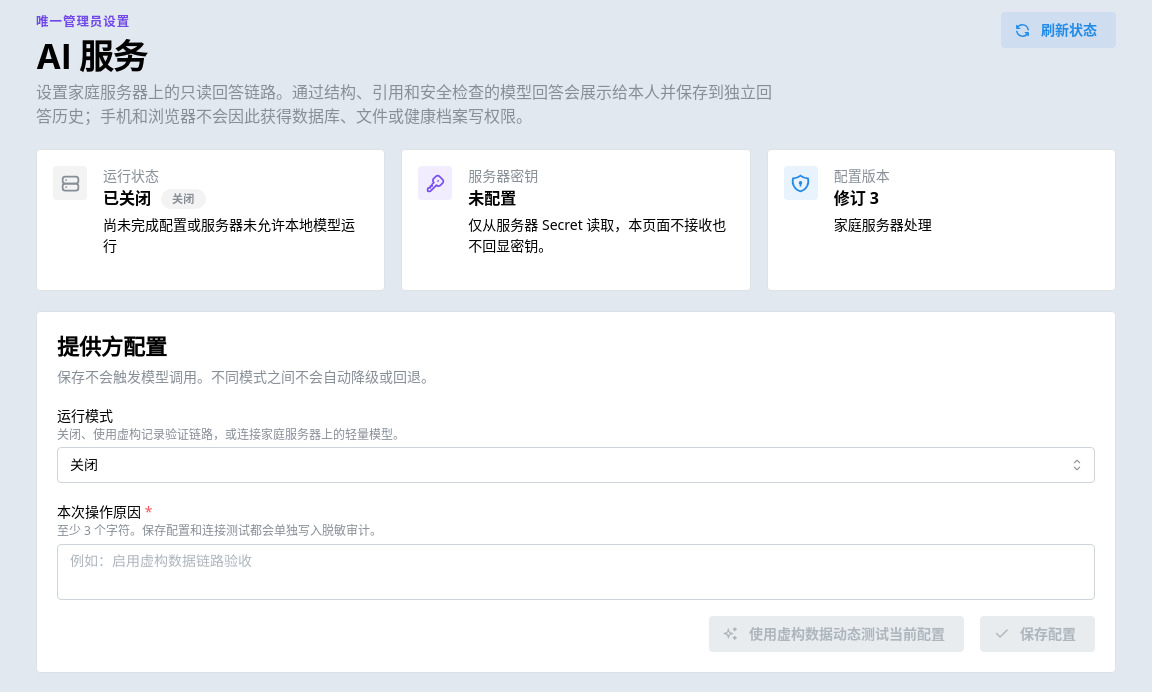
Test case: AdminHealthAiSettingsPage › fills only the local Ollama address without endorsing an unverified model
Expected: the heading "AI 服务" is shown, top-left (36, 36), bottom-right (147, 77)
Select "家庭服务器模型" in the dropdown labelled "运行模式": (576, 465) top-left (57, 447), bottom-right (1095, 483)
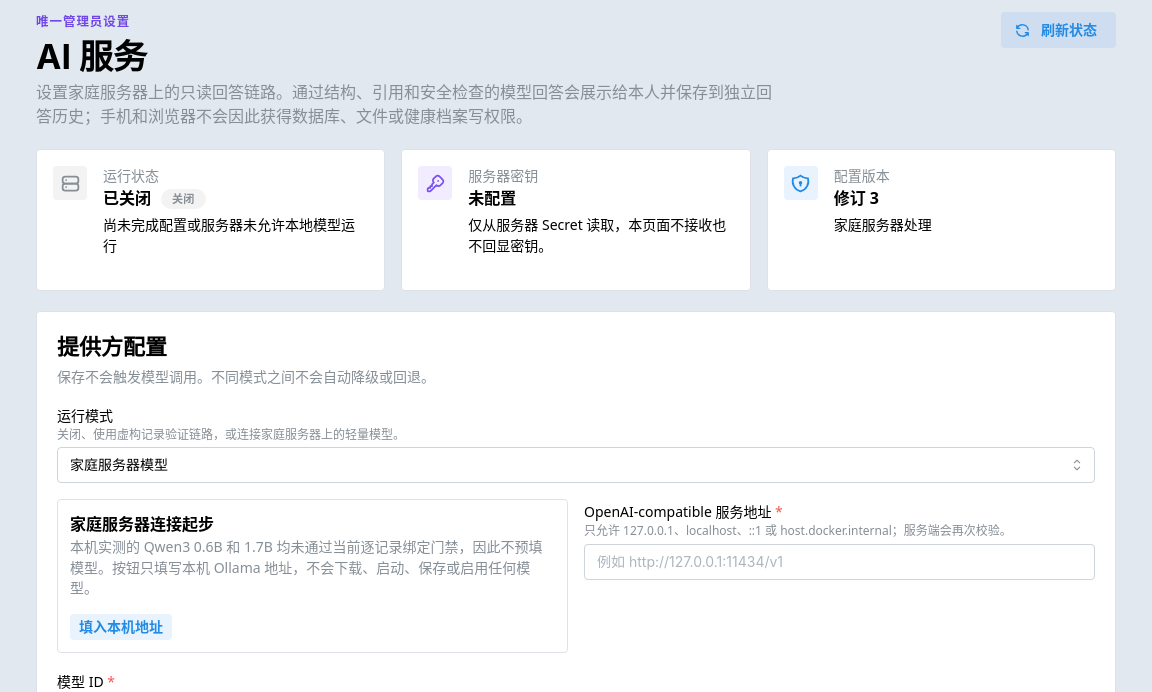
Click the button "填入本机地址": (121, 627) top-left (70, 614), bottom-right (172, 640)
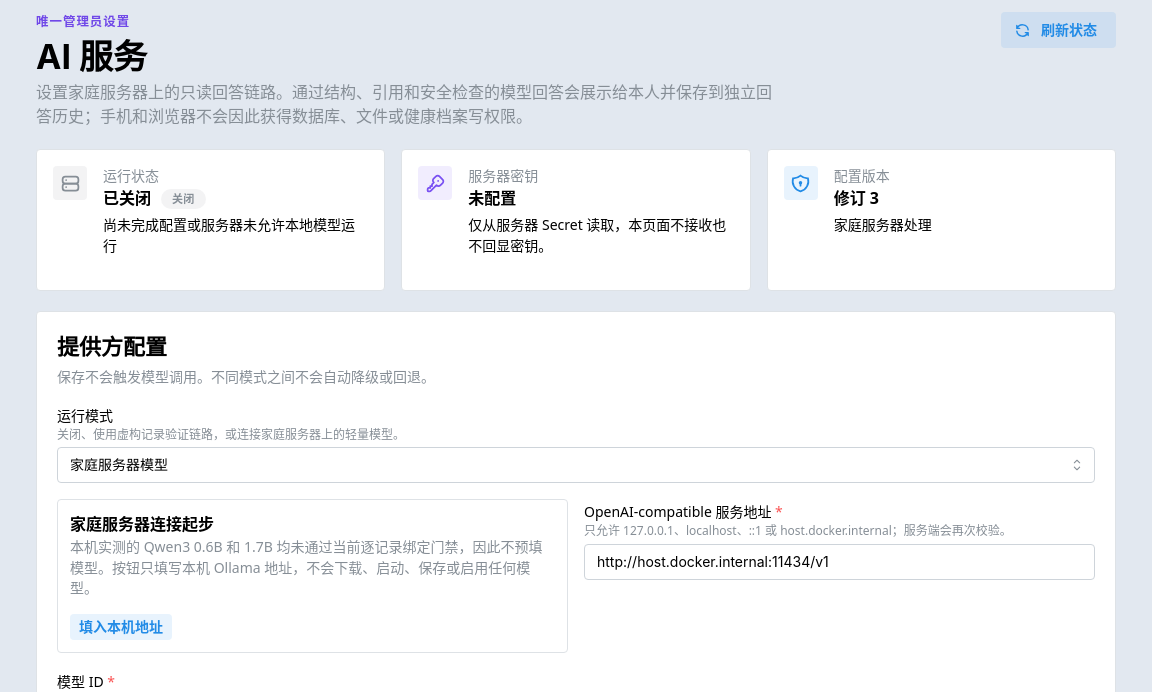
Result: the text "0.6B 和 1.7B 均未通过当前逐记录绑定门禁" is shown at top-left (70, 537), bottom-right (542, 597)
Result: the field labelled "OpenAI-compatible 服务地址 *" holds "http://host.docker.internal:11434/v1" at top-left (584, 544), bottom-right (1095, 580)
